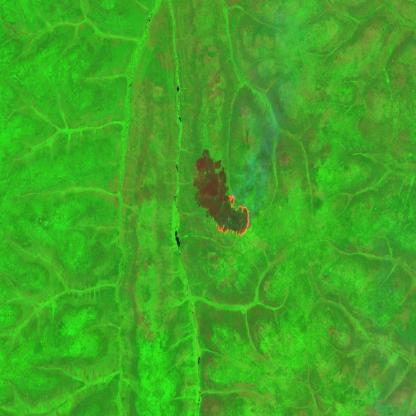fire: (216, 183, 256, 245)
